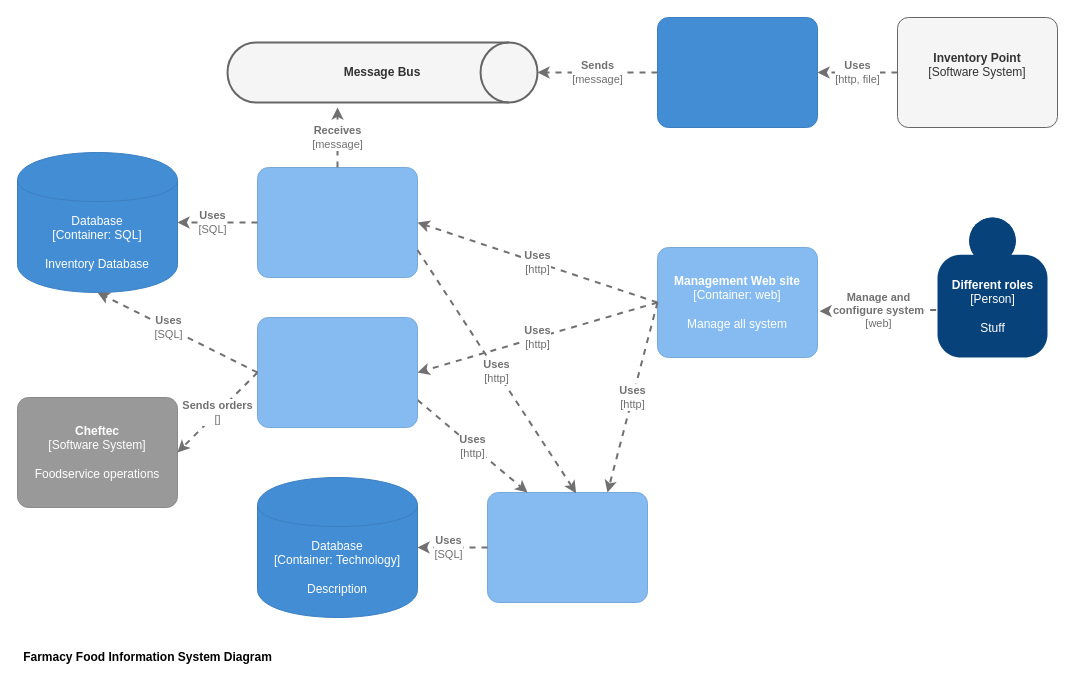
Some shapes in this 1075 by 685 pixel diagram are drawn without their labels. The centre of each missing label's shape, as x and y in pixels:
Gateway [Component: API] Inventory Point Gateway: [737,72]
Identity Service [Container: API] Authentication & Authorization: [567,547]
Inventory Service [Container: API] Manage Inventory State: [337,222]
Reporting & Analytic Service [Container: API]: [337,372]
